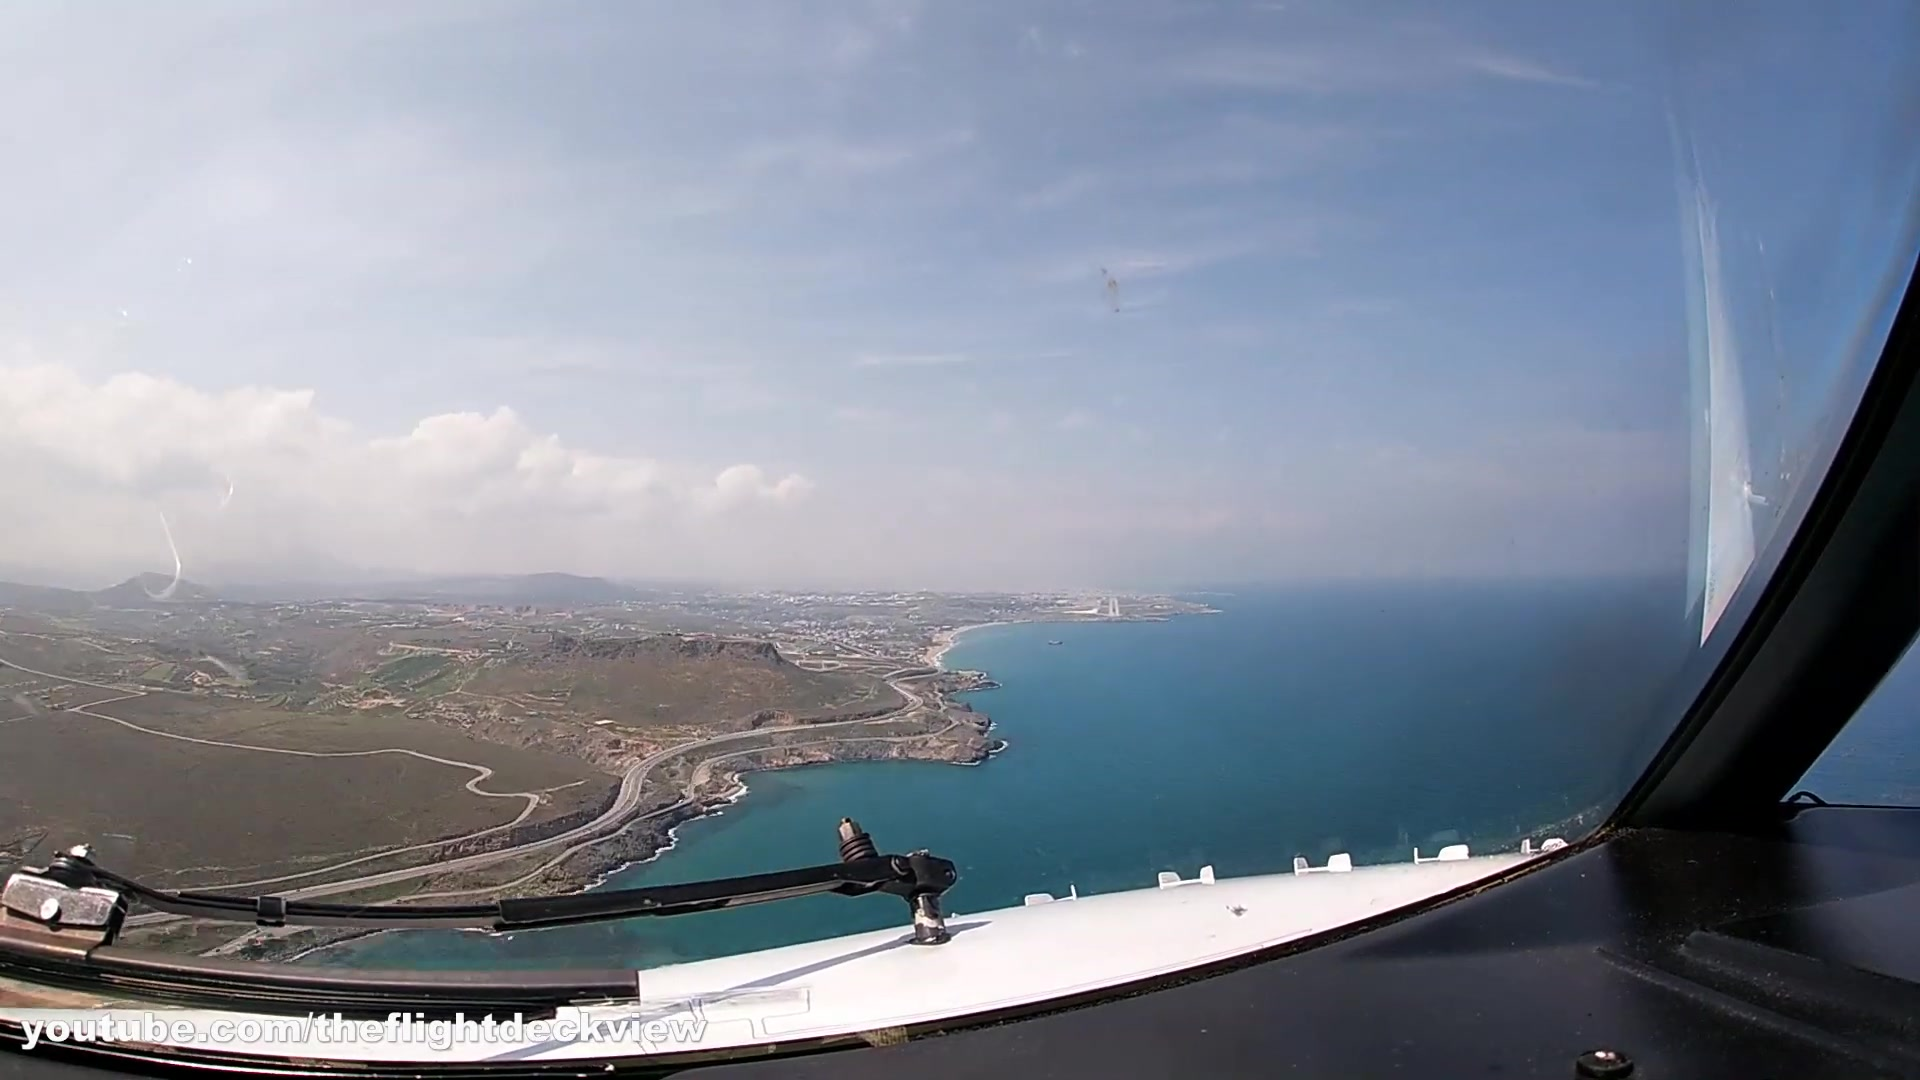runway: (1108, 596, 1120, 617)
